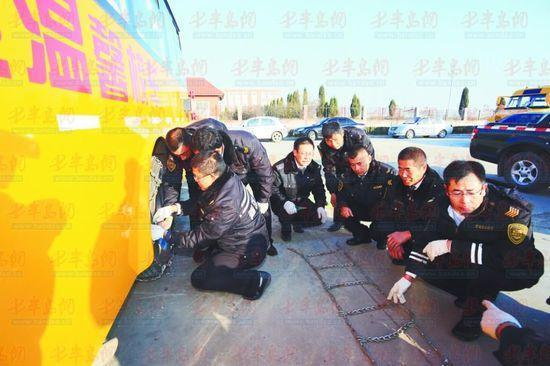Fall-Detected: (471, 275, 549, 366)
